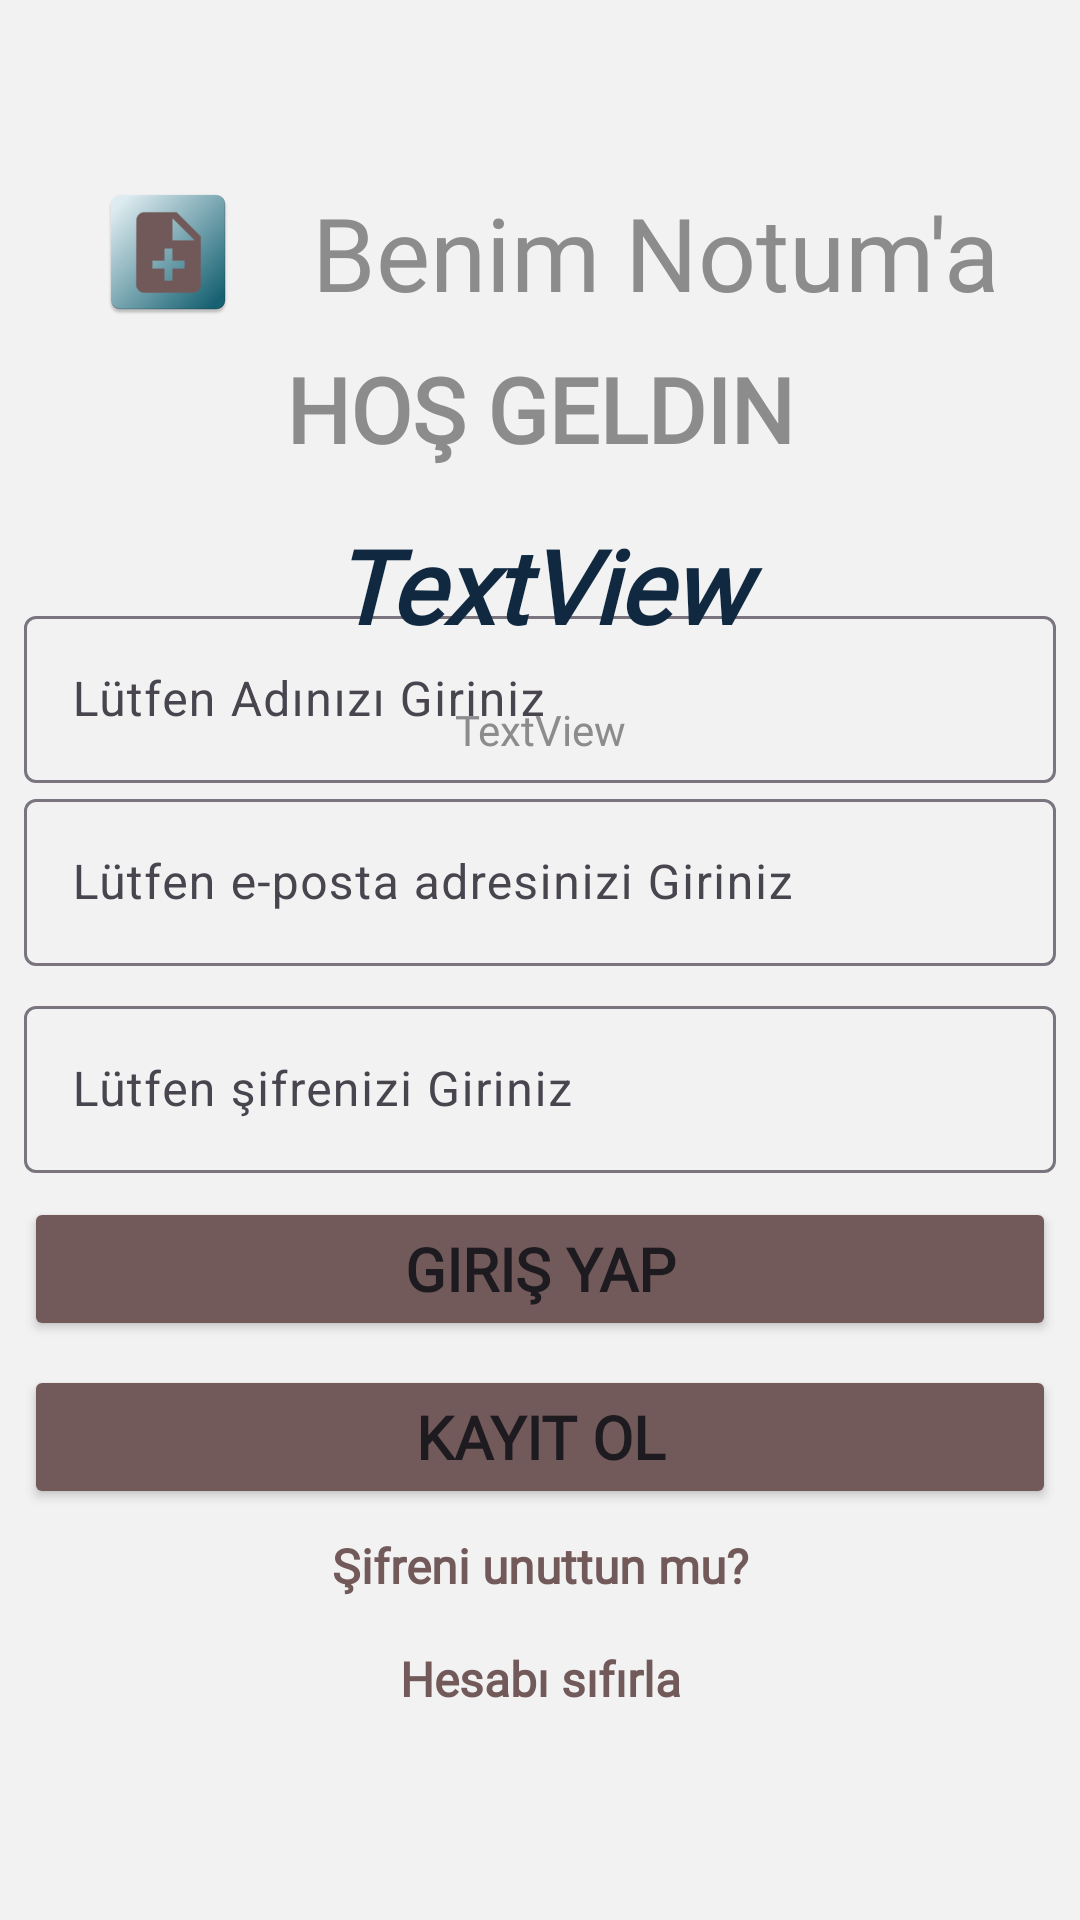

Where icons sit on this 1080 × 1920 app screen, as [x1=x1, y1=y1, x2=x2, y2=y2]:
app: [x1=110, y1=195, x2=226, y2=313]
